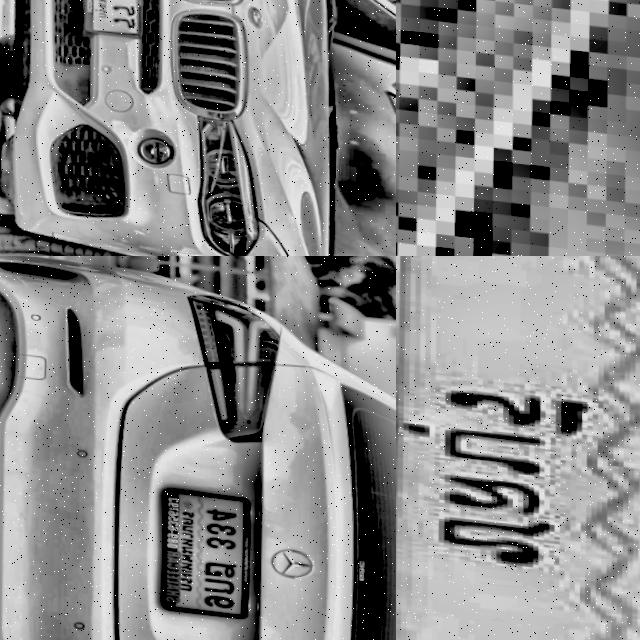license-plate: (396, 256, 640, 640), (396, 0, 640, 256), (158, 478, 254, 612), (79, 0, 146, 35)
